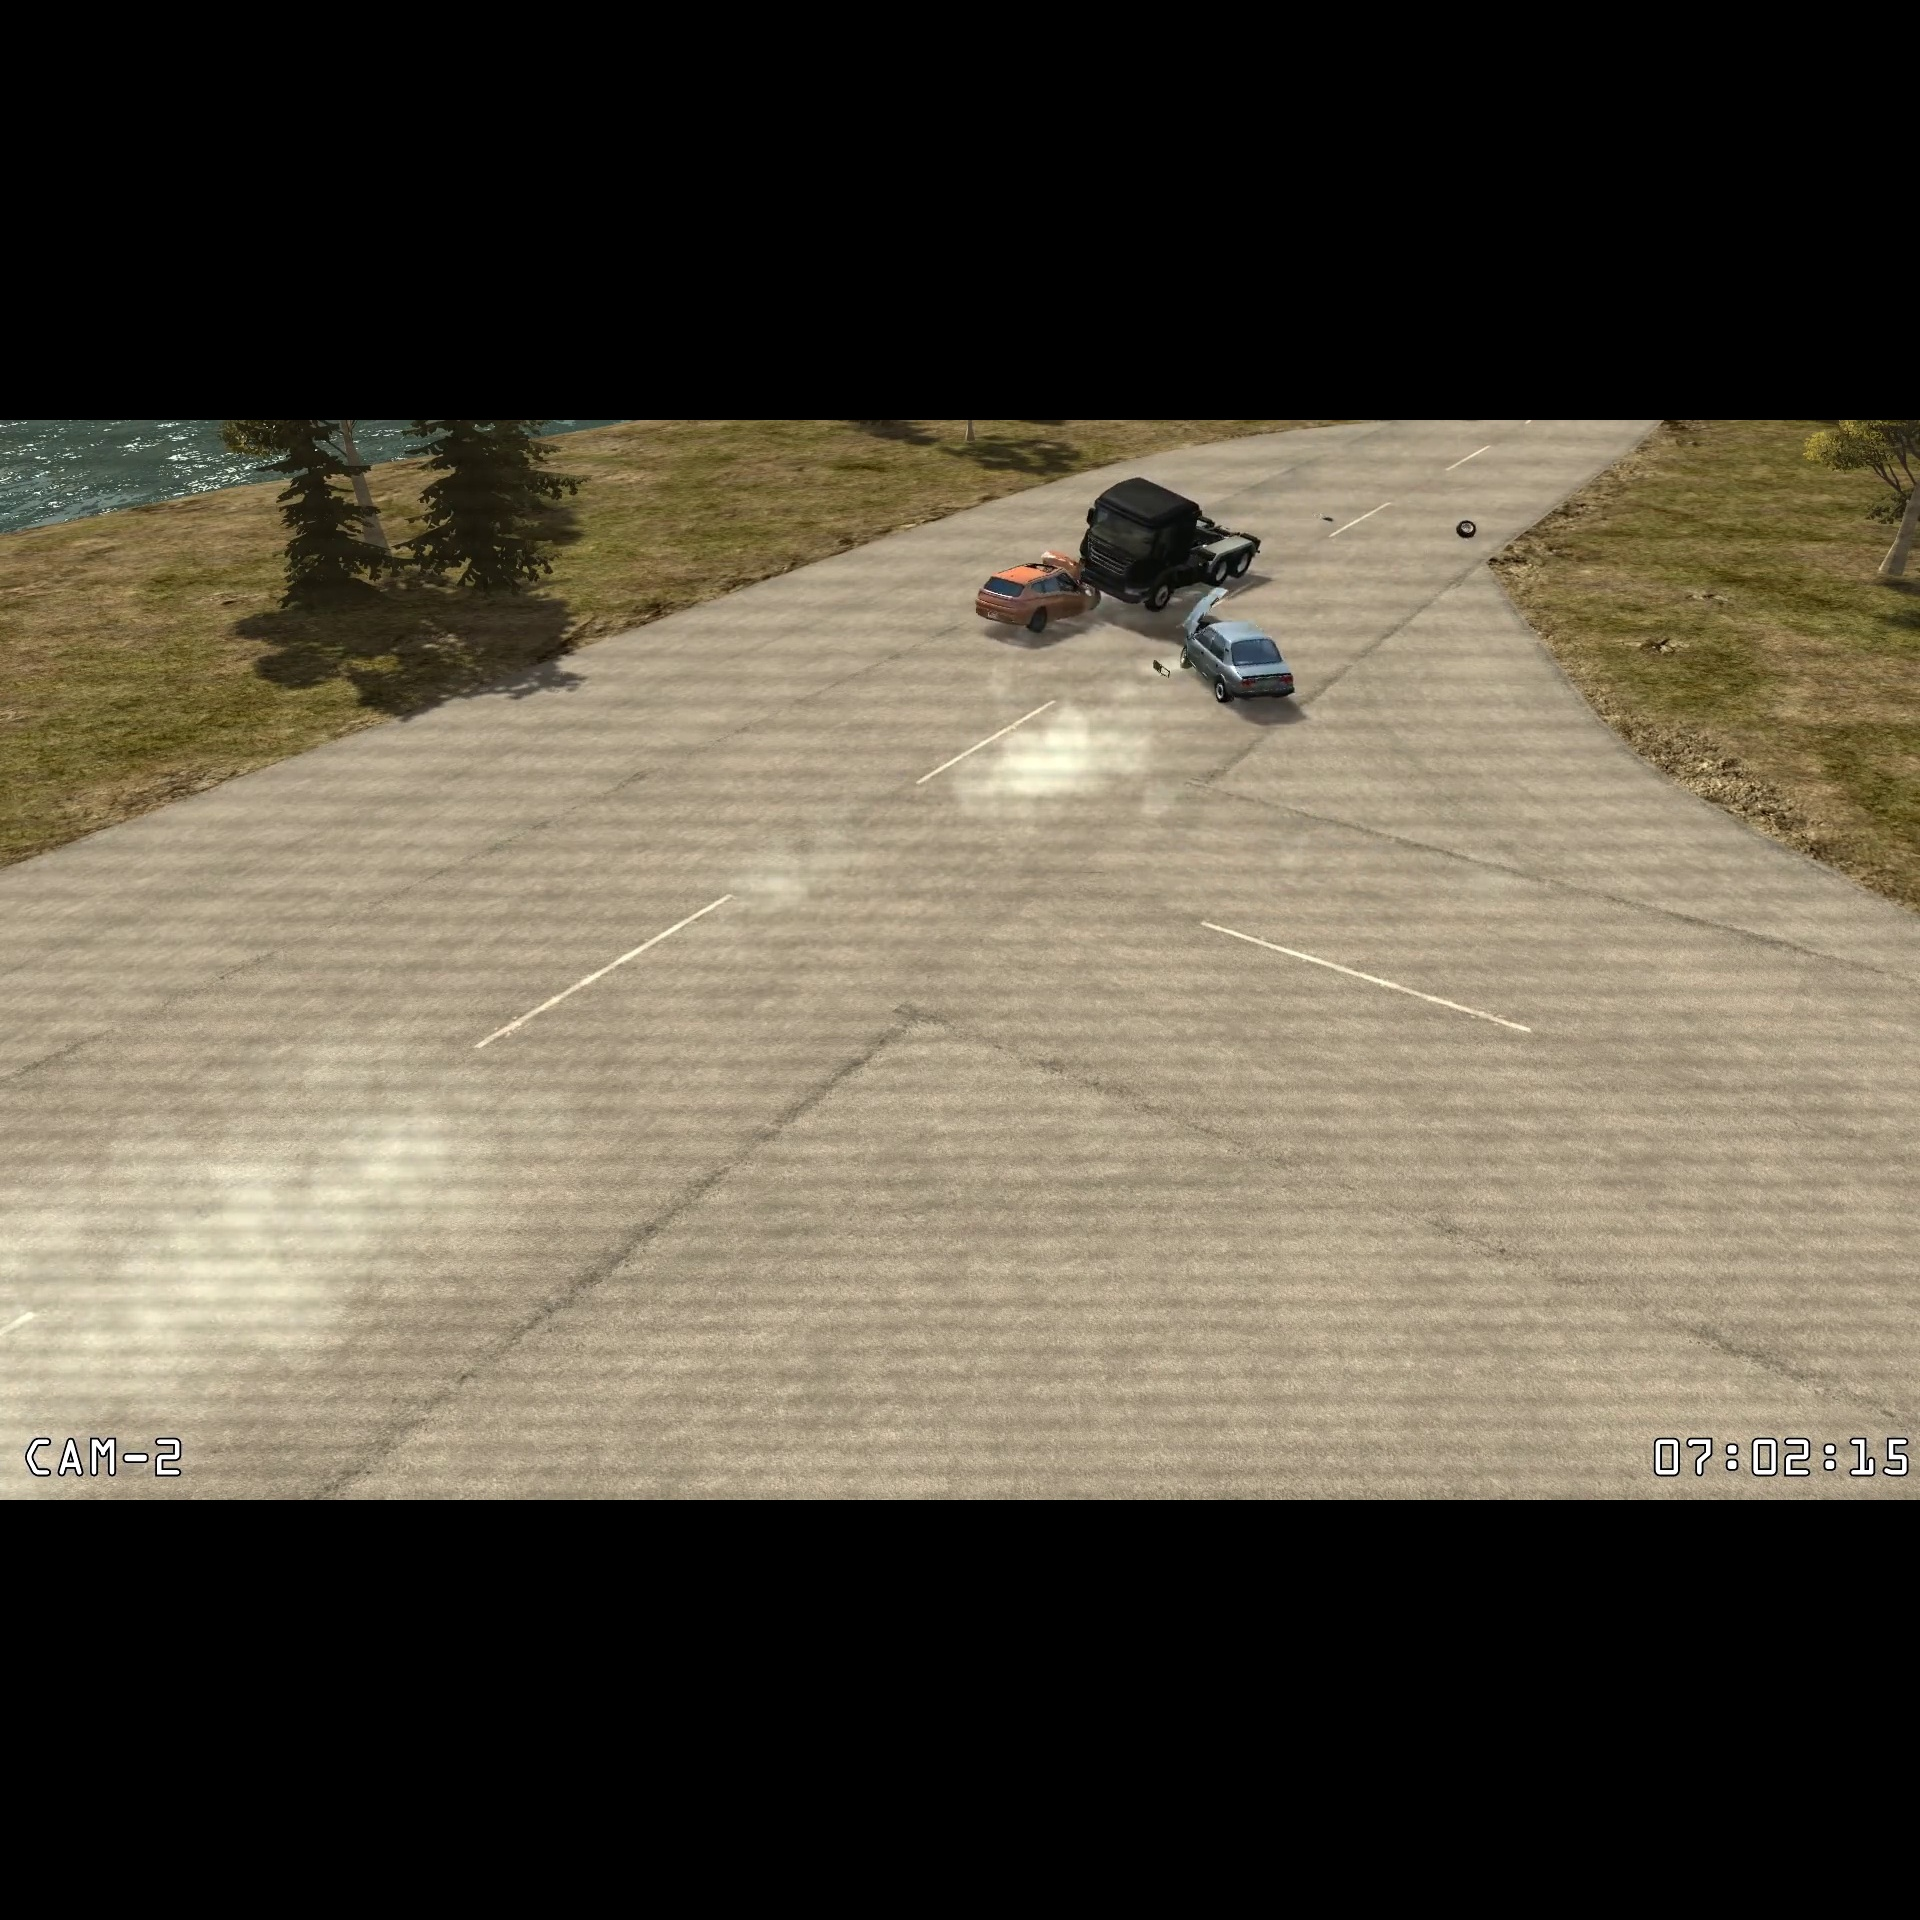vehicle: (1073, 471, 1271, 617), (1175, 612, 1303, 712), (972, 554, 1106, 642)
